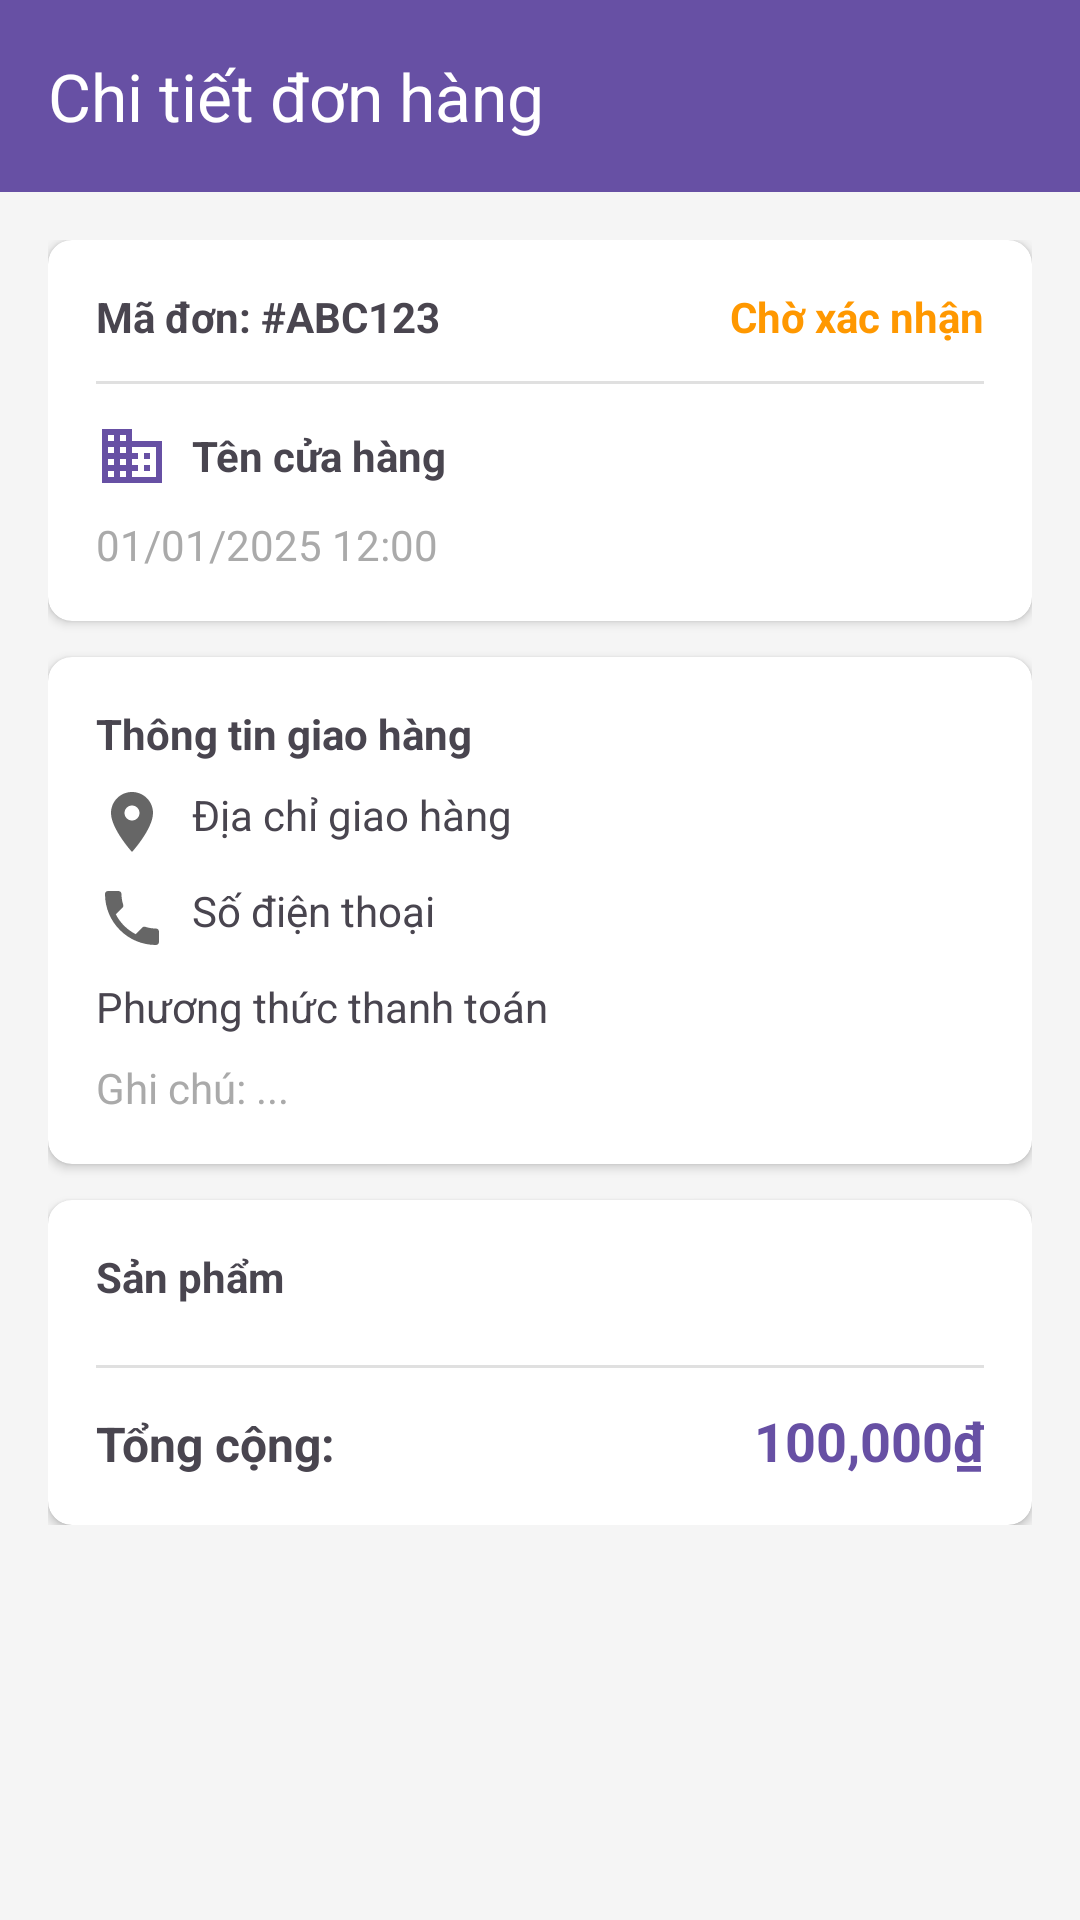

Named icons in this screenshot (1080×1920) and their bounding boxes, [left=x1, top=y1, right=x2, bottom=y2]:
store: [left=102, top=429, right=162, bottom=483]
